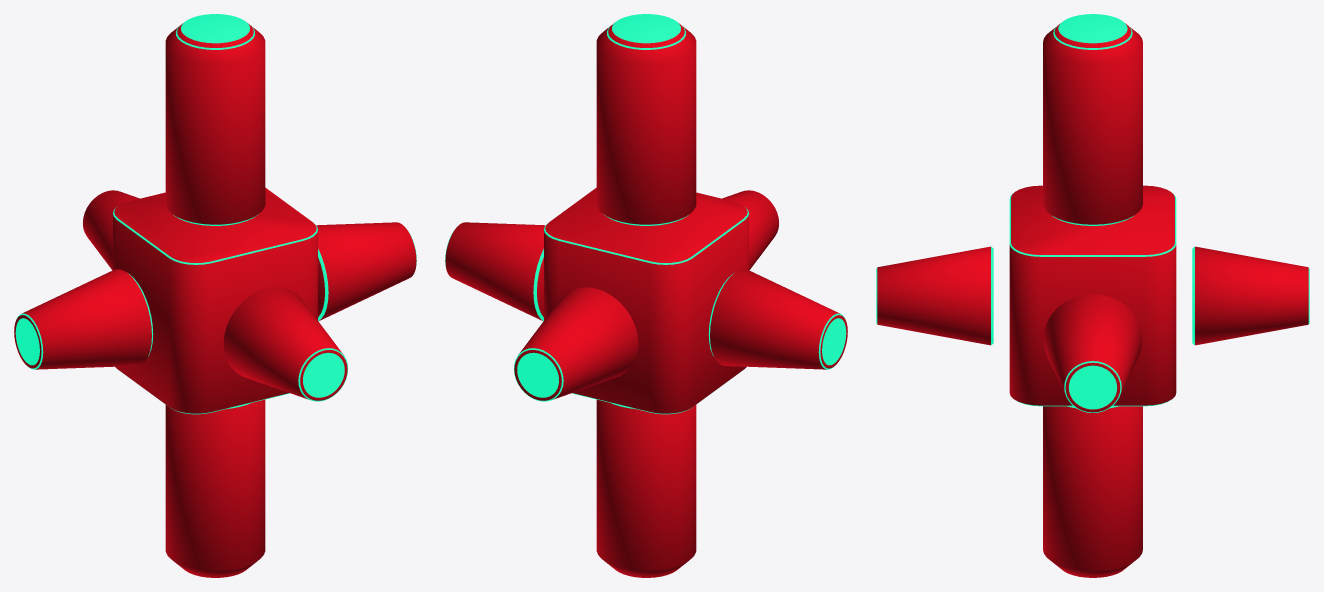
The model's file is piler.glb.
3 views of the same model, side by side, from view 1: azimuth 30°, elevation 25°; view 2: azimuth 150°, elevation 25°; view 3: azimuth 270°, elevation 25° (orthographic).
Parts seen in each view (by area): view 1: Cube; view 2: Cube; view 3: Cube.
Boxes of the visible parts, <box> form: Cube: <box>14,14,416,577</box>; Cube: <box>445,14,847,577</box>; Cube: <box>876,14,1309,577</box>.
Bounding box in the file's own units: 5.19 × 7.07 × 5.19.
